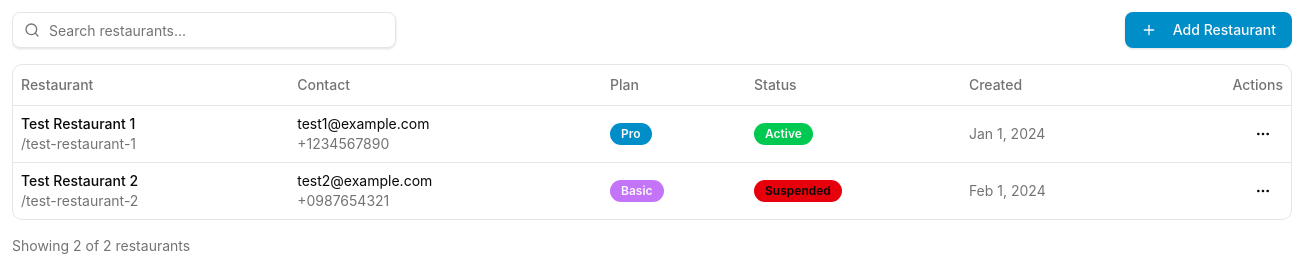
Test case: RestaurantTable › shows no results message when search has no matches
Type "nonexistent" into the field with placeholder "Search restaurants...". click: (204, 30)
box: [12,12,396,48]
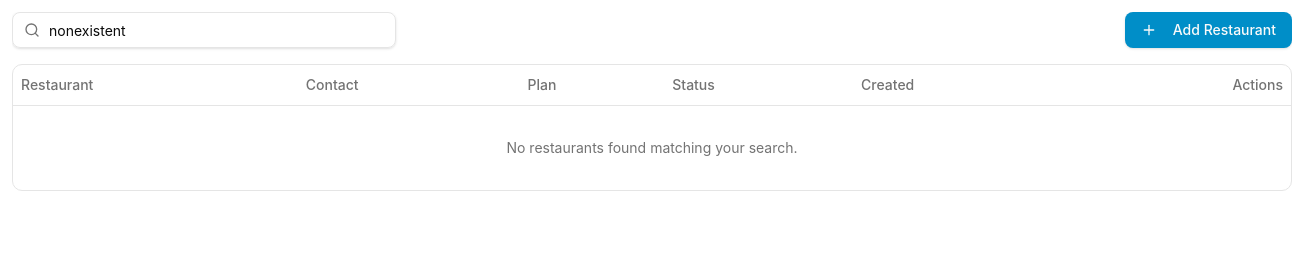
Now the text "No restaurants found matching your search." is shown, box [13,105,1291,190]
